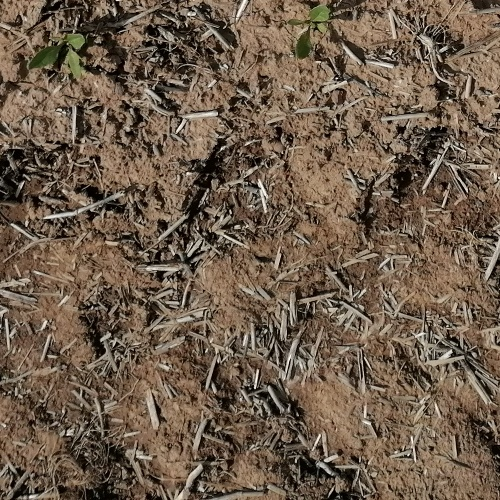beet: (28, 32, 85, 79), (292, 5, 331, 59)
